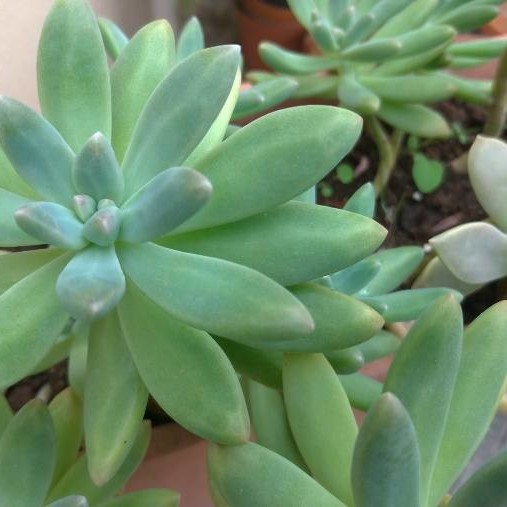obstacle: (4, 14, 373, 416), (204, 315, 476, 489), (285, 32, 481, 233)
